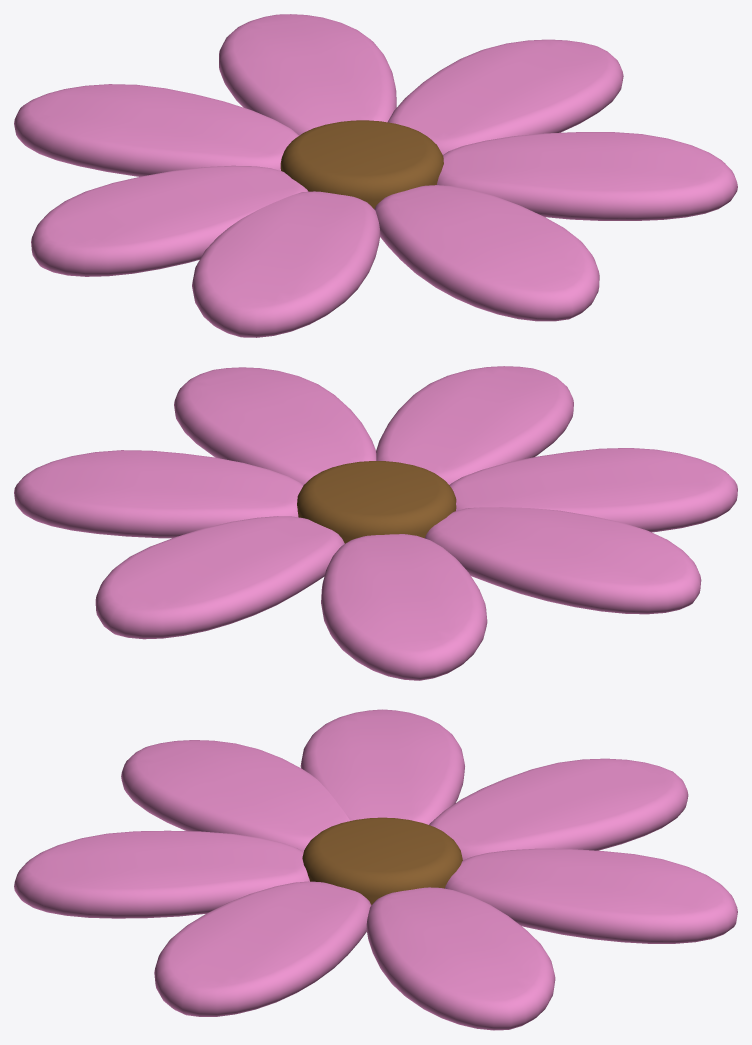
Rendered from Flower.fbx.
3 views of the same model, one above another, from view 1: azimuth 30°, elevation 25°; view 2: azimuth 150°, elevation 25°; view 3: azimuth 270°, elevation 25° (orthographic). The views are drawn at different scales.
Visible parts, largest first — view 1: Flower; view 2: Flower; view 3: Flower.
Part boxes in pixels (x1,y1,x2,y2): Flower: (14, 14, 737, 337); Flower: (14, 366, 737, 680); Flower: (14, 709, 737, 1030).
Bounding box in the file's own units: 0.1084 × 0.00706 × 0.1093.
